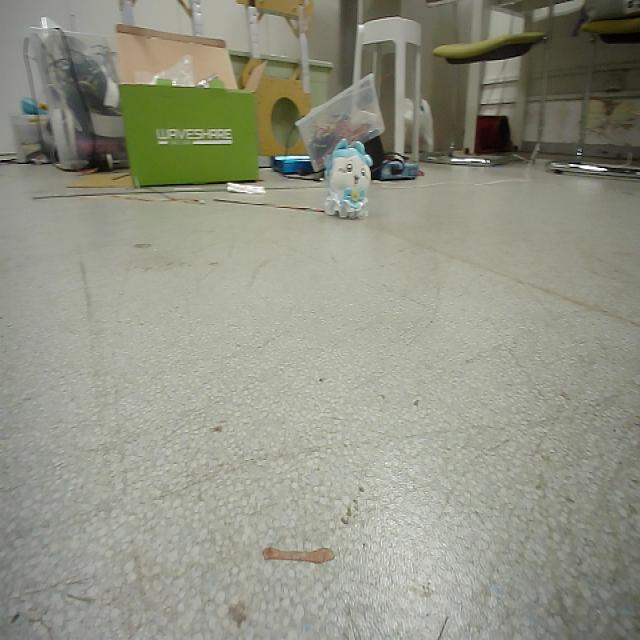xiaoba: (326, 130, 370, 223)
